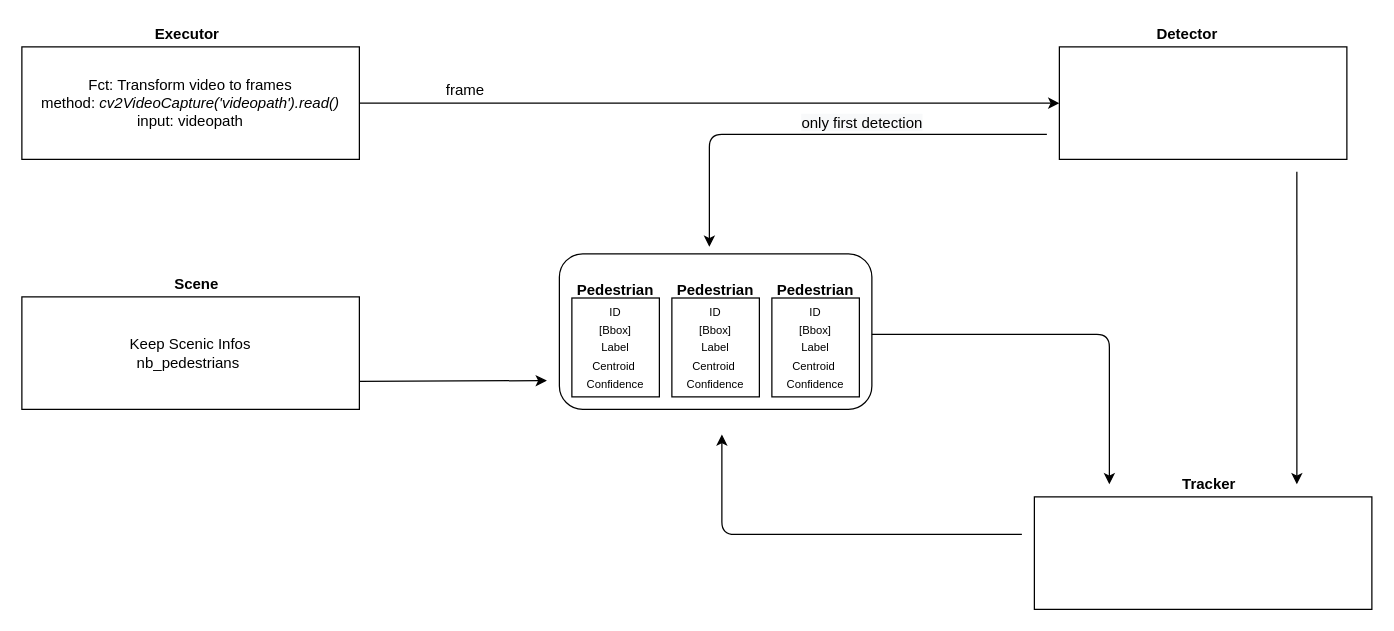
This 1394x631 diagram has some shape labels left out. Each missing label, with the centre of its shape:
Fct: Detect objects on image method: detect(image) input: frames: pixel 1202 102
Update and Create pedestrians: pixel 1202 552
